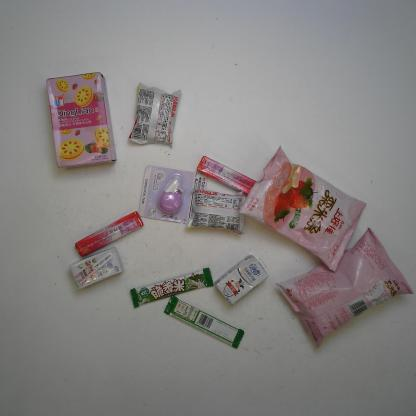Candy: (78, 212, 138, 252), (197, 156, 258, 195)
Chocolate: (162, 296, 244, 364), (129, 269, 215, 306)
Dessert: (40, 68, 121, 167), (129, 82, 177, 147), (191, 186, 242, 234)
Milk: (217, 255, 265, 306), (68, 249, 122, 288)
Puffed Food: (245, 141, 364, 280), (274, 230, 412, 344)
Stationery: (141, 158, 196, 226)
